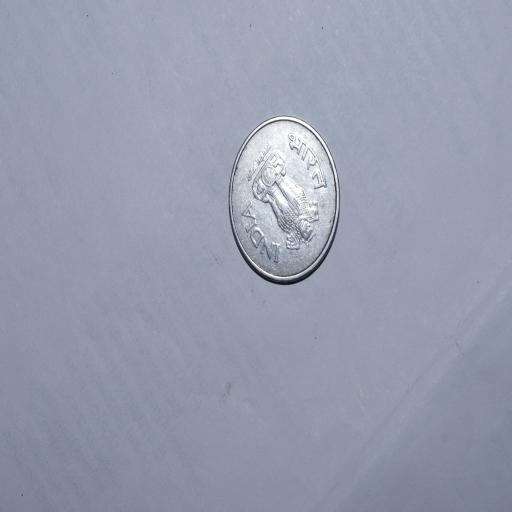rupee1: (222, 116, 339, 290)
